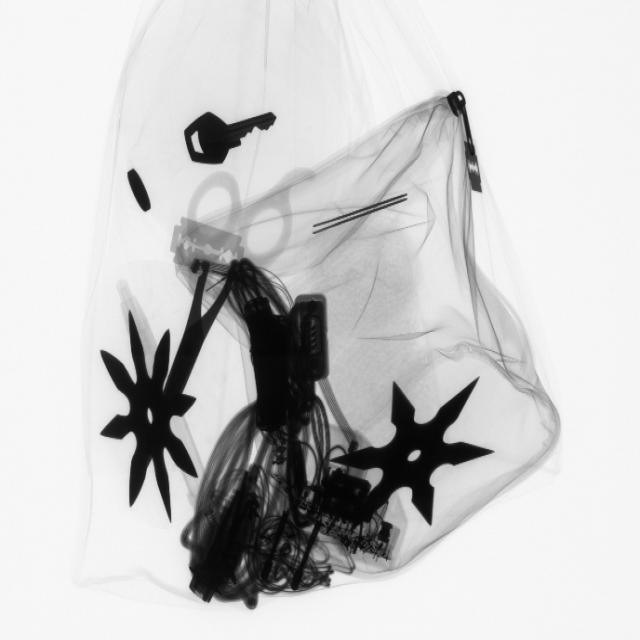BLADE: (170, 213, 250, 280)
SHURIKEN: (96, 306, 210, 523), (339, 378, 488, 529)
